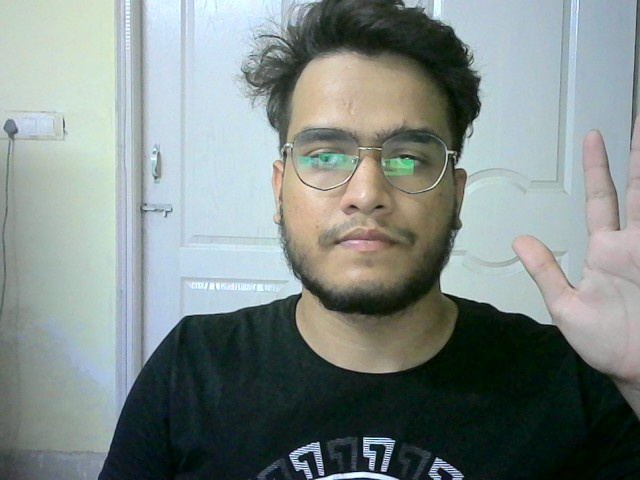Hello: (515, 120, 640, 385)
